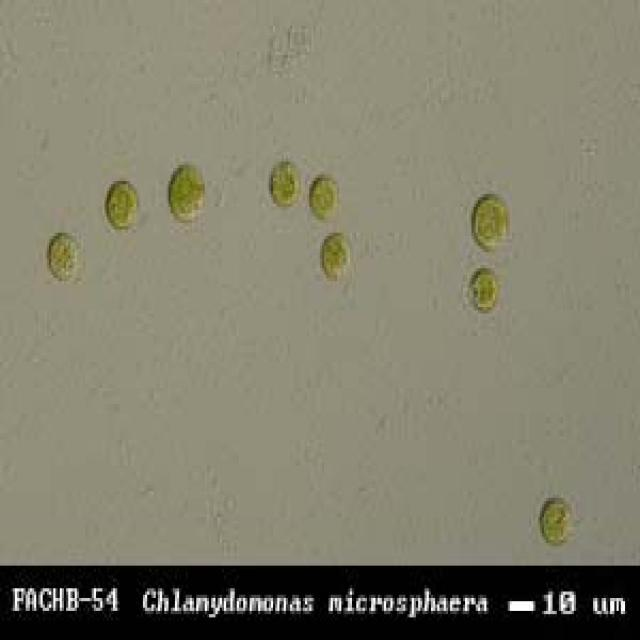Green Algae: (166, 162, 209, 226), (467, 191, 510, 252), (538, 495, 578, 546), (104, 178, 141, 233), (465, 258, 501, 314), (47, 230, 81, 281), (307, 171, 339, 223), (269, 162, 301, 210), (322, 229, 352, 278)
